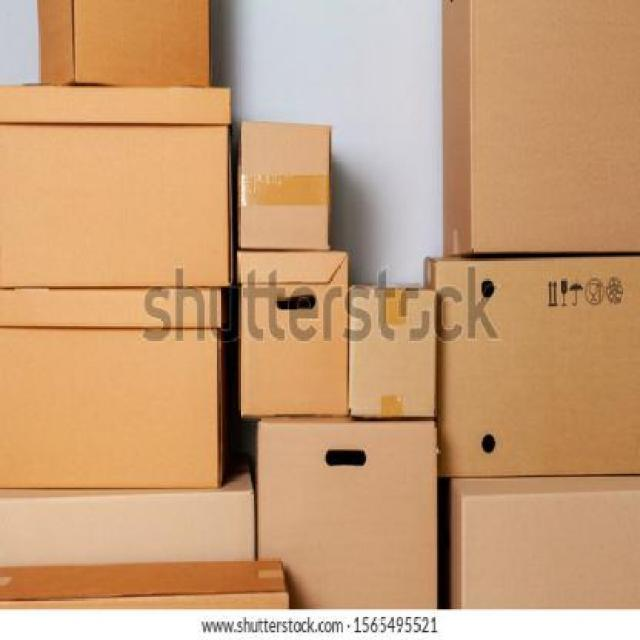box: (441, 0, 640, 254), (0, 82, 233, 288), (426, 256, 640, 478), (0, 287, 224, 494), (256, 421, 440, 607), (0, 460, 256, 560), (448, 478, 640, 606), (237, 251, 352, 417), (38, 0, 211, 86), (0, 559, 285, 607), (238, 123, 334, 253), (352, 283, 437, 422)
